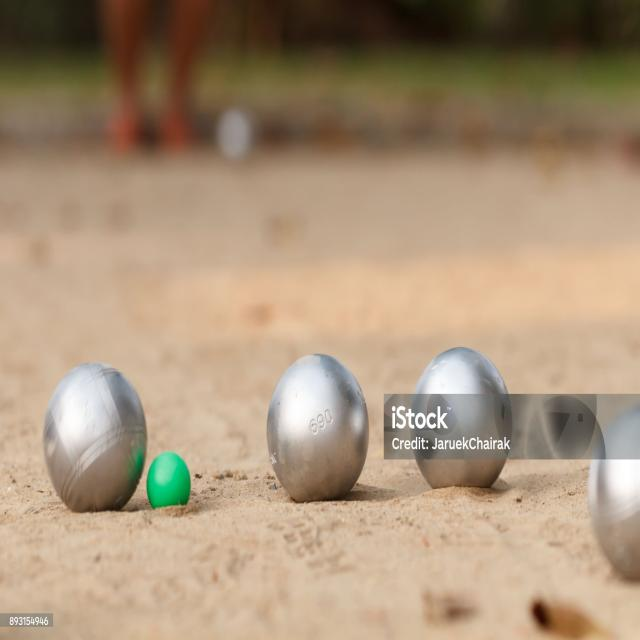petanque: (253, 347, 376, 515), (401, 343, 519, 501), (44, 353, 156, 519), (586, 402, 640, 596)
